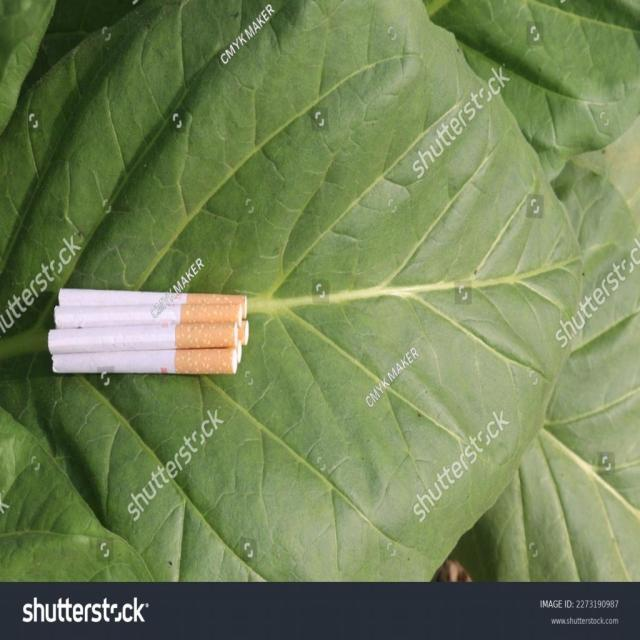smoking: (47, 288, 249, 375)
